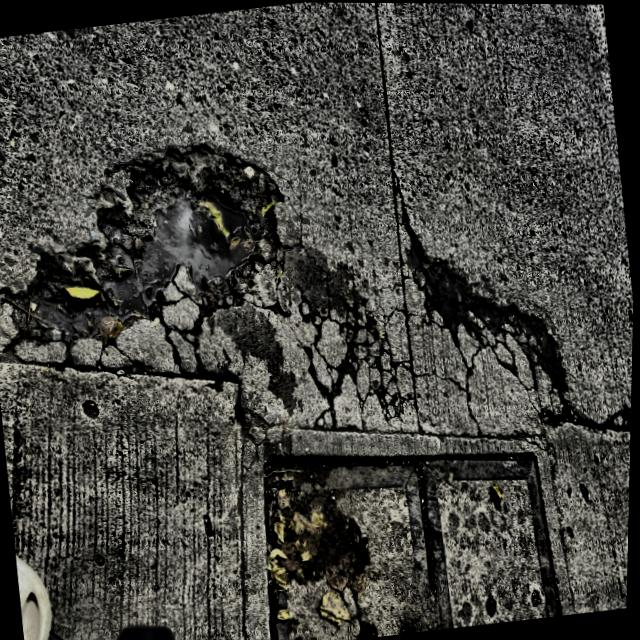pothole: (9, 142, 275, 363)
